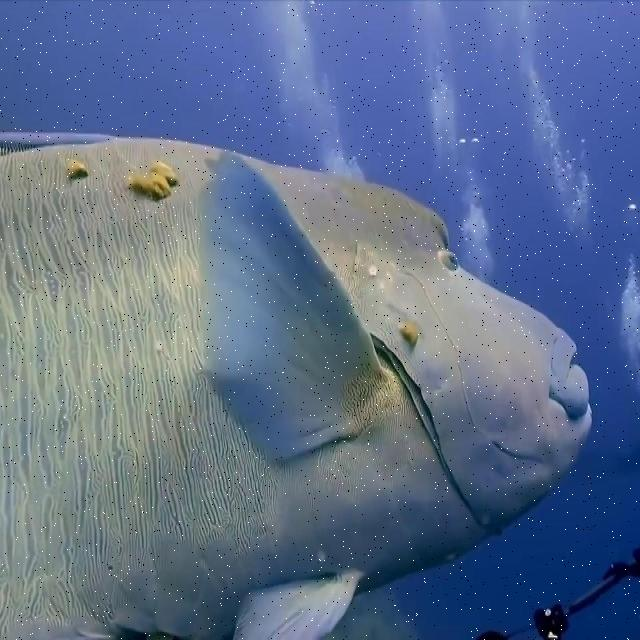fish: (0, 132, 593, 639)
